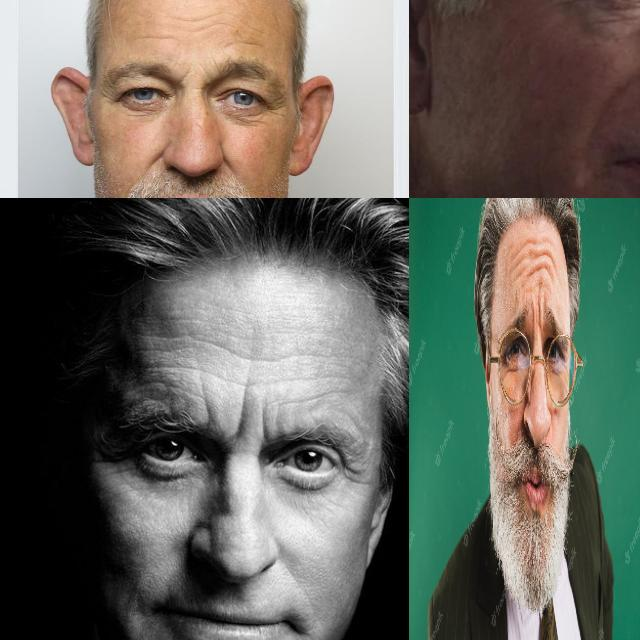crows_feet: (339, 451, 367, 495), (263, 94, 287, 122), (548, 0, 592, 7)
forehead: (164, 321, 228, 353), (150, 356, 212, 379), (279, 388, 341, 408), (244, 347, 286, 373), (179, 10, 213, 34), (539, 235, 552, 277), (235, 30, 262, 50), (511, 246, 524, 285), (526, 233, 537, 277), (140, 30, 172, 44)
frown_line: (223, 398, 253, 436), (190, 392, 220, 428), (250, 408, 276, 446), (176, 66, 192, 88), (536, 298, 542, 329), (530, 300, 536, 330)
gummy_smile: (147, 140, 167, 172)
masseter: (526, 169, 558, 198)
